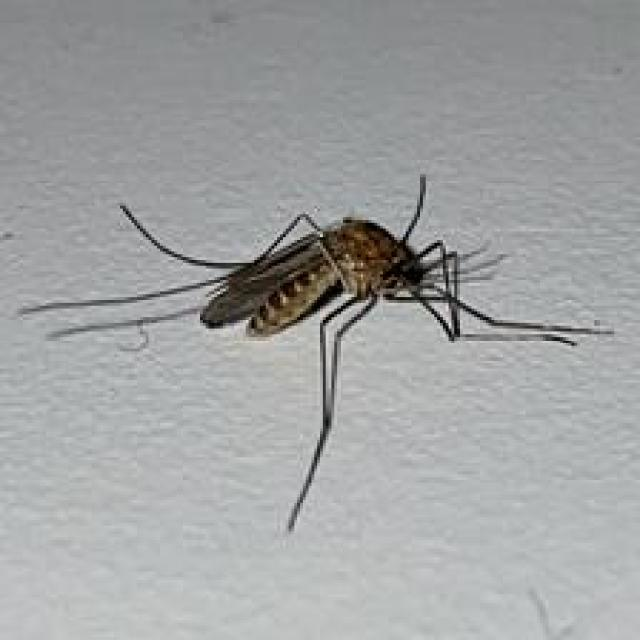Culex: (18, 172, 616, 534)
